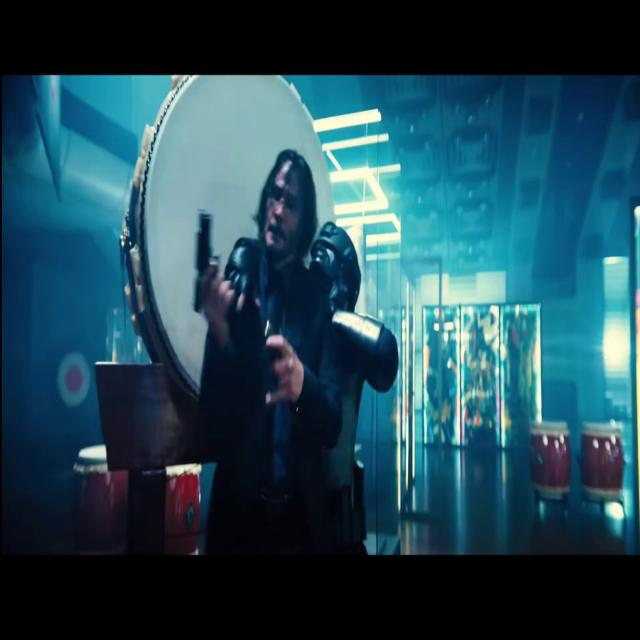weapons: (186, 193, 237, 331)
